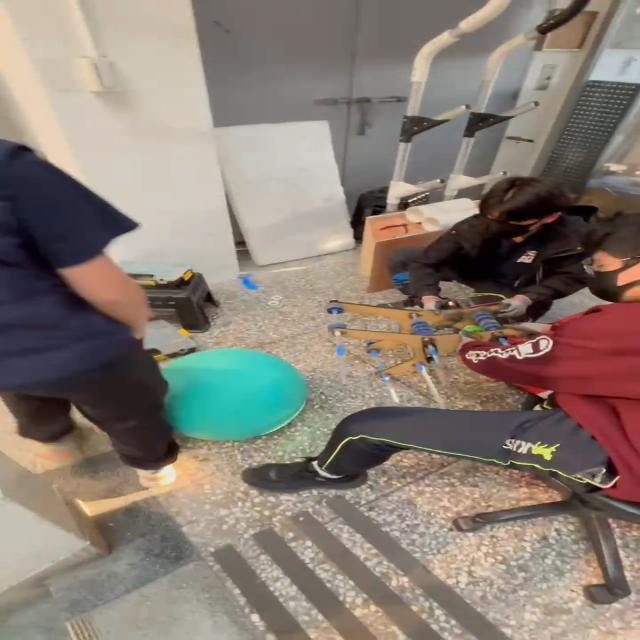ALGAE: (158, 346, 310, 442)
